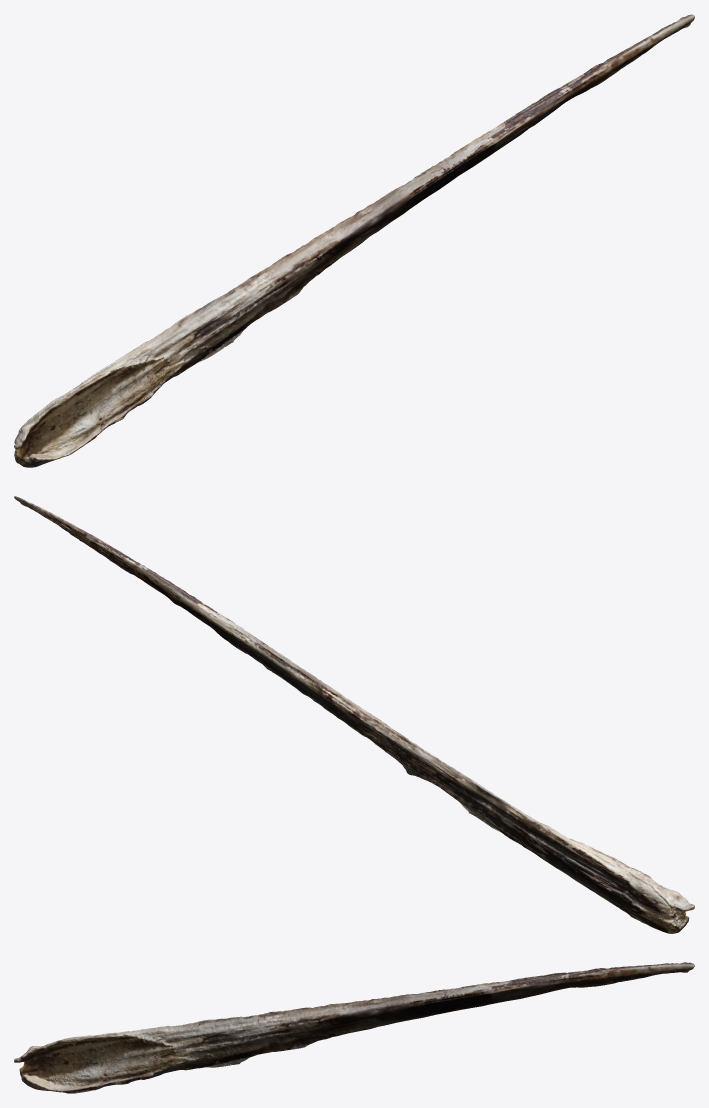
The model's file is Stingray Barb.glb.
The picture shows the model from 3 angles, top to bottom: view 1: azimuth 30°, elevation 25°; view 2: azimuth 150°, elevation 25°; view 3: azimuth 330°, elevation 25°; orthographic projection. The views are drawn at different scales.
Size of the model in its own units: 2.12 by 0.8474 by 0.1105.
1 material, 1 textured.
